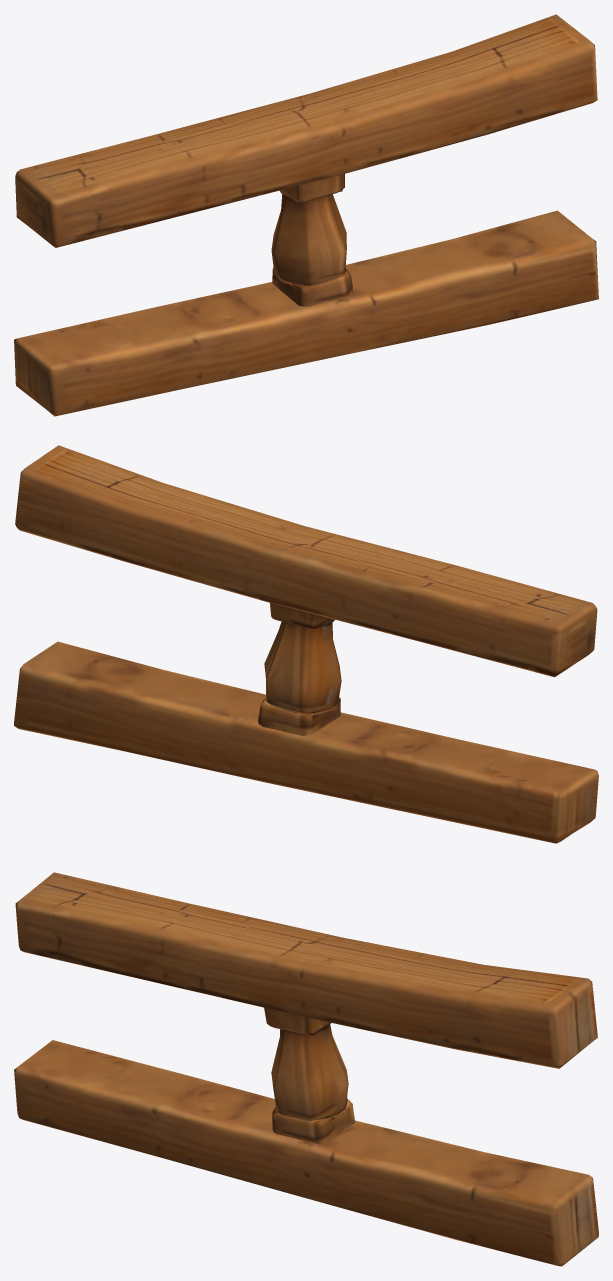
Rendered from rail_parts.glb.
3 views of the same model, one above another, from view 1: azimuth 30°, elevation 25°; view 2: azimuth 150°, elevation 25°; view 3: azimuth 330°, elevation 25° (orthographic).
Parts seen in each view (by area): view 1: handrail, base, baluster; view 2: handrail, base, baluster; view 3: handrail, base, baluster.
Boxes of the visible parts, x1,y1,x2,y2 form: handrail: (15, 14, 597, 247); base: (14, 210, 598, 416); baluster: (271, 174, 353, 306); handrail: (15, 445, 597, 677); base: (14, 641, 598, 843); baluster: (258, 603, 341, 736); handrail: (15, 872, 597, 1068); base: (14, 1040, 598, 1266); baluster: (264, 1007, 354, 1143).
Size of the model in its own units: 1.77 by 0.805 by 0.2378.
Materials: 1 (1 with a texture image).
